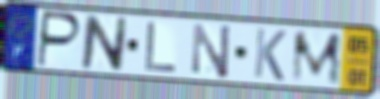K: (251, 26, 288, 84)
L: (143, 20, 179, 75)
M: (290, 30, 344, 86)
N: (79, 13, 130, 74), (191, 22, 234, 81)
P: (35, 9, 84, 70)
